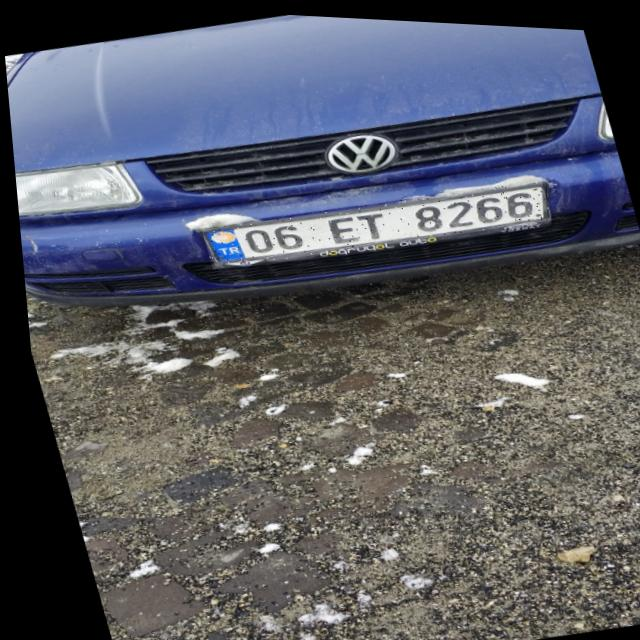license_plate: (193, 161, 554, 282)
